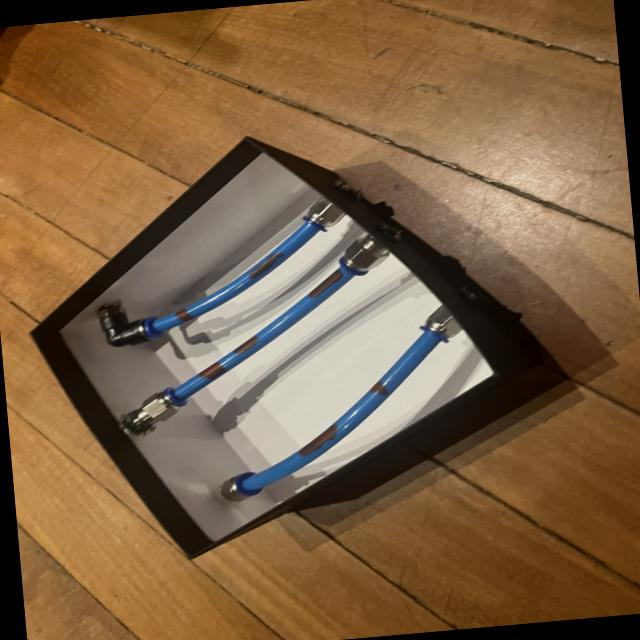hose_damage: (296, 422, 341, 460), (243, 249, 289, 283), (307, 267, 346, 300), (196, 359, 229, 381), (231, 333, 261, 356), (367, 378, 391, 397), (174, 307, 194, 323)
